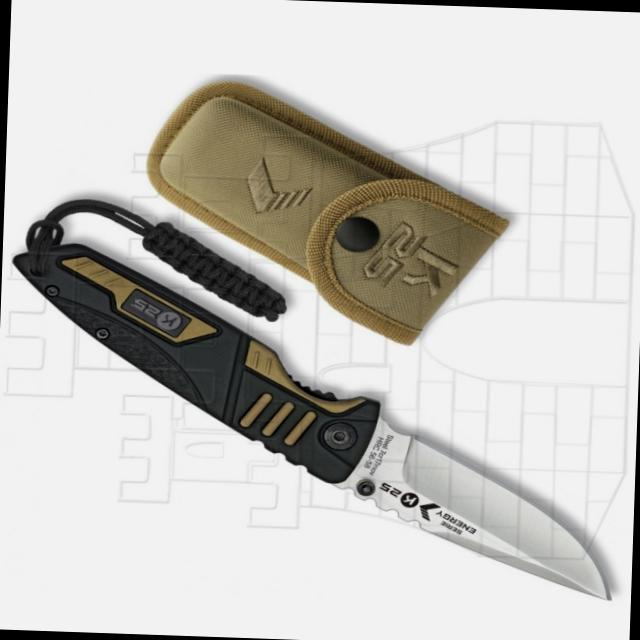knife: (291, 383, 628, 606)
